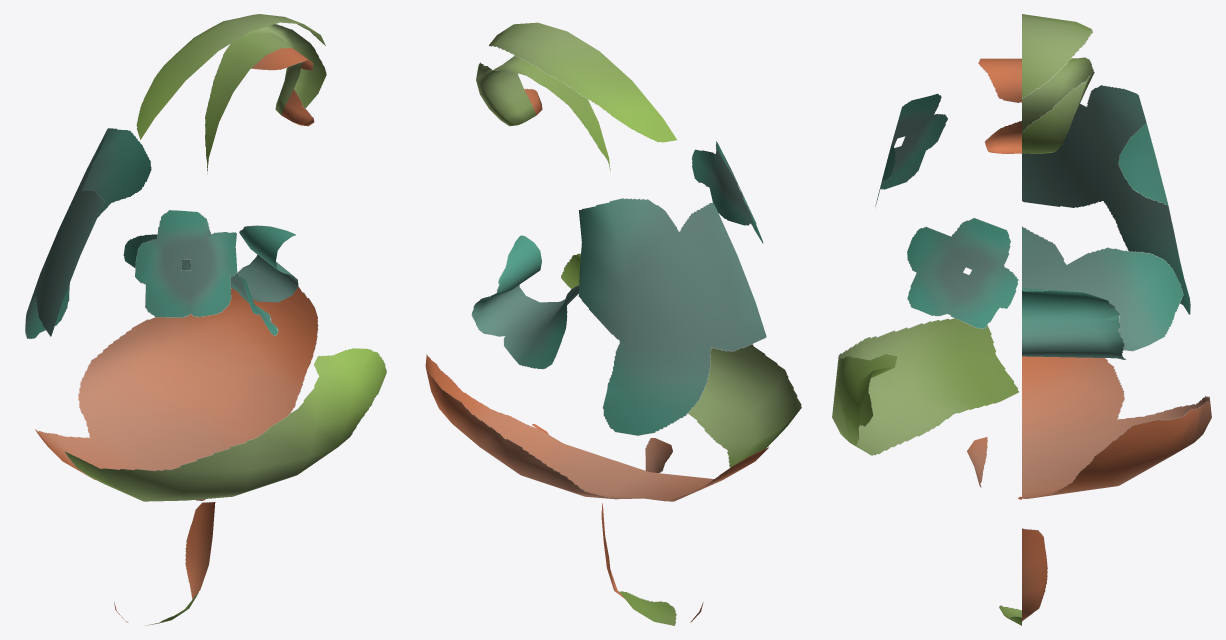
File: CourageCropFinal.FBX
3 renders of one model, left to right at view 1: azimuth 30°, elevation 25°; view 2: azimuth 150°, elevation 25°; view 3: azimuth 270°, elevation 25°, orthographic. The views are drawn at different scales.
Visible parts, largest first — view 1: Pilz1; view 2: Pilz1; view 3: Pilz1.
Boxes of the visible parts, bbox=[...] form: Pilz1: bbox=[25, 14, 386, 625]; Pilz1: bbox=[425, 22, 801, 625]; Pilz1: bbox=[832, 14, 1211, 625].
Bounding box in the file's own units: 165 × 278 × 146.
